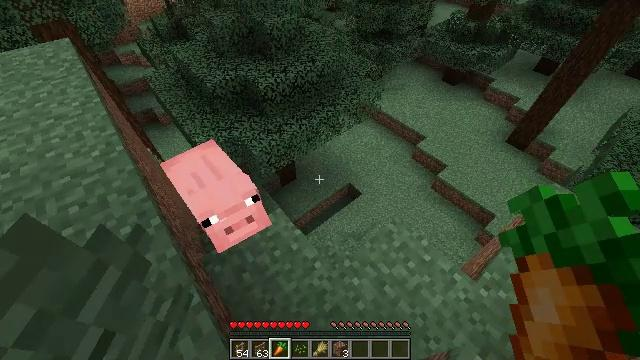pig: (161, 139, 272, 253)
